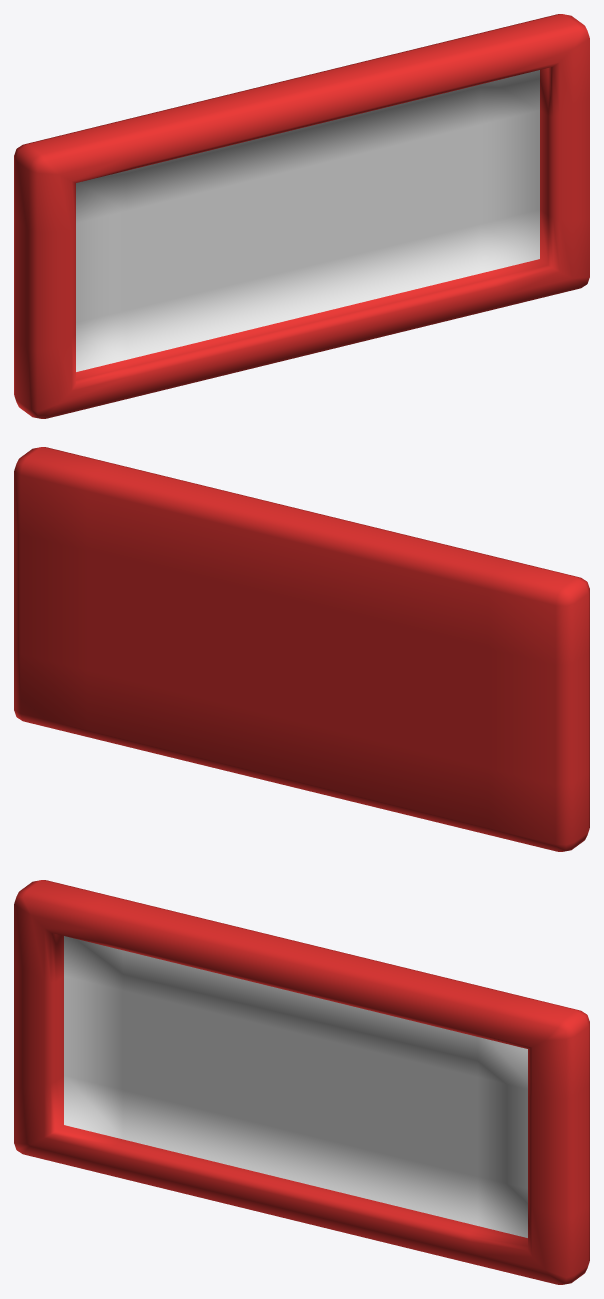
Rendered from MDL_start_Panel.fbx.
3 renders of one model, top to bottom at view 1: azimuth 30°, elevation 25°; view 2: azimuth 150°, elevation 25°; view 3: azimuth 330°, elevation 25°, orthographic.
Visible parts, largest first — view 1: MDL_start; view 2: MDL_start; view 3: MDL_start.
Part boxes in pixels (bbox=[...]): MDL_start: bbox=[14, 14, 589, 418]; MDL_start: bbox=[14, 447, 589, 851]; MDL_start: bbox=[14, 880, 589, 1284].
Size of the model in its own units: 587 by 265 by 50.14.
